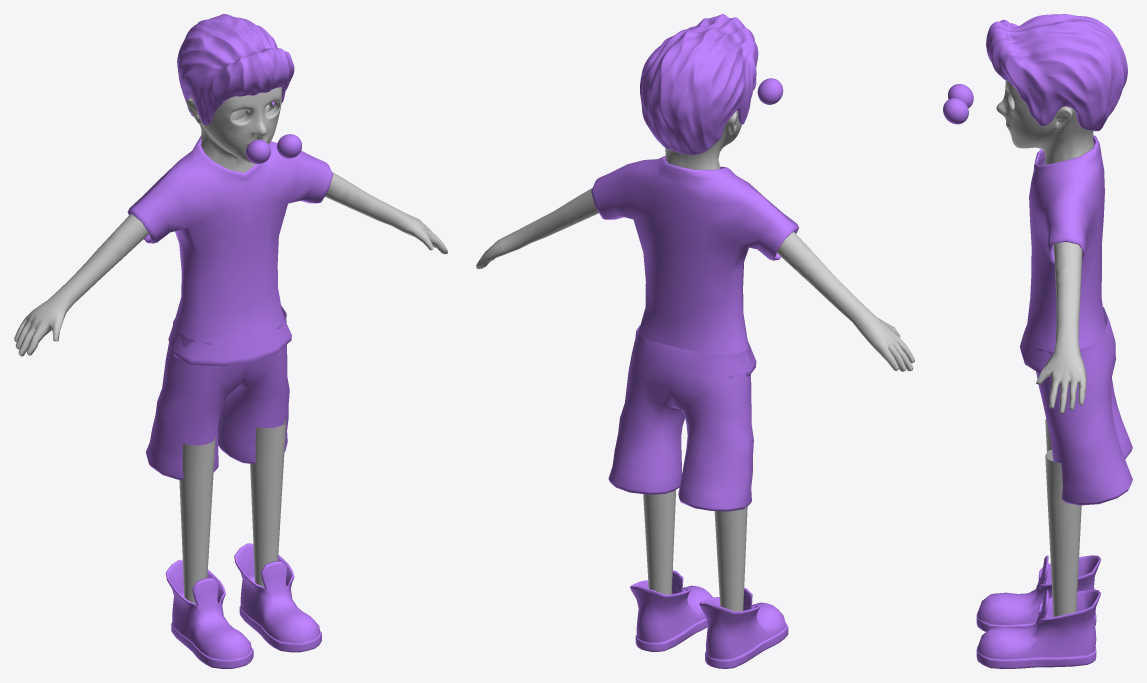
Rendered from small_boy_2012.glb.
The picture shows the model from 3 angles, left to right: view 1: azimuth 30°, elevation 25°; view 2: azimuth 150°, elevation 25°; view 3: azimuth 270°, elevation 25°; orthographic projection. The views are drawn at different scales.
Visible parts, largest first — view 1: shirt, Group1, Group4, Group2, Group003, head, hand, leg2, leg1, hand_1; view 2: shirt, Group1, Group4, Group003, hand, Group2, leg2, leg1, hand_1, head; view 3: shirt, Group4, Group1, Group2, hand_1, leg1, head, Group003, eye002, eye001.
Part boxes in pixels (x1,y1,x2,y2): shirt: (127, 135, 332, 366); Group1: (145, 306, 289, 479); Group4: (177, 14, 294, 125); Group2: (234, 543, 321, 652); Group003: (165, 560, 253, 668); head: (186, 87, 281, 172); hand: (14, 214, 148, 356); leg2: (179, 437, 215, 604); leg1: (250, 418, 286, 588); hand_1: (325, 172, 447, 254); shirt: (591, 156, 798, 378); Group1: (608, 325, 753, 511); Group4: (640, 14, 758, 154); Group003: (699, 588, 788, 668); hand: (777, 231, 914, 371); Group2: (630, 570, 712, 651); leg2: (714, 506, 747, 611); leg1: (643, 490, 675, 594); hand_1: (476, 188, 598, 269); head: (665, 110, 741, 169); shirt: (1020, 135, 1106, 376); Group4: (986, 14, 1127, 131); Group1: (1035, 307, 1132, 505); Group2: (976, 589, 1100, 668); hand_1: (1036, 242, 1086, 413); leg1: (1045, 449, 1081, 616); head: (996, 80, 1094, 164); Group003: (976, 555, 1100, 631); eye002: (943, 98, 968, 124); eye001: (948, 84, 973, 107).
Size of what is drawn, in the model's own units: 262 by 357 by 98.49.
